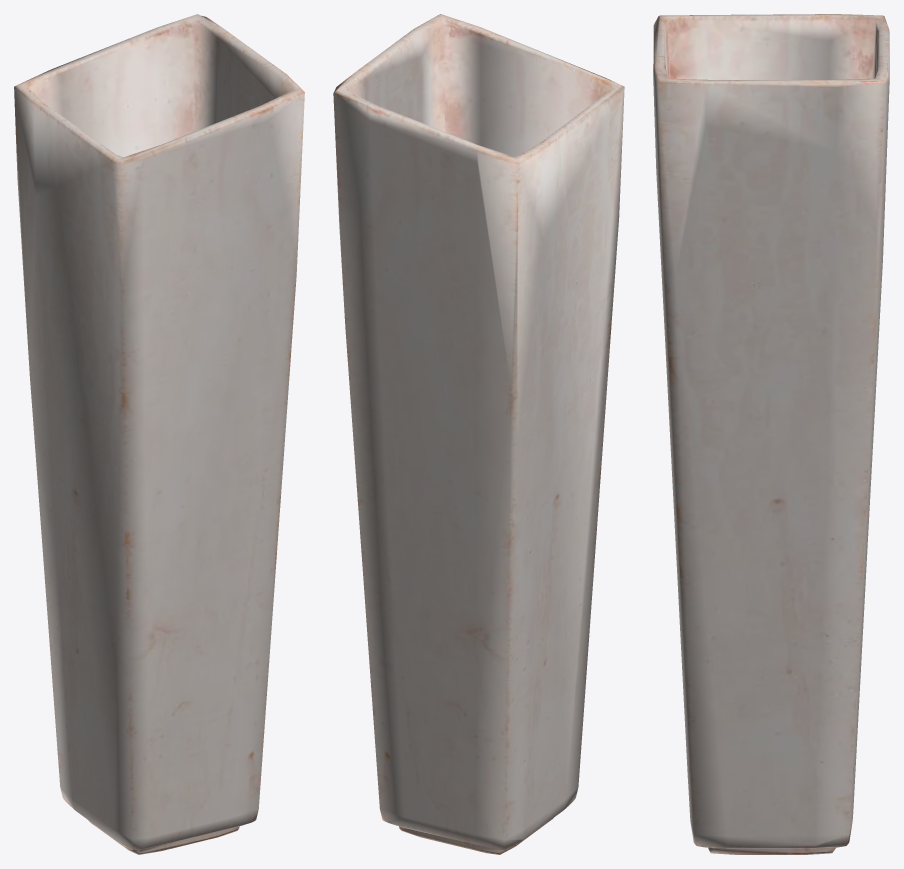
File: ceramic_vase_03.glb
The picture shows the model from 3 angles, left to right: view 1: azimuth 30°, elevation 25°; view 2: azimuth 150°, elevation 25°; view 3: azimuth 270°, elevation 25°; orthographic projection. The views are drawn at different scales.
Visible parts, largest first — view 1: ceramic_vase_03; view 2: ceramic_vase_03; view 3: ceramic_vase_03.
Part boxes in pixels (left/top/right/bottom): ceramic_vase_03: left=14, top=14, right=304, bottom=854; ceramic_vase_03: left=333, top=14, right=624, bottom=854; ceramic_vase_03: left=653, top=14, right=889, bottom=854.
Size of the model in its own units: 0.1109 by 0.4143 by 0.1116.
Materials: 1 (1 with a texture image).
